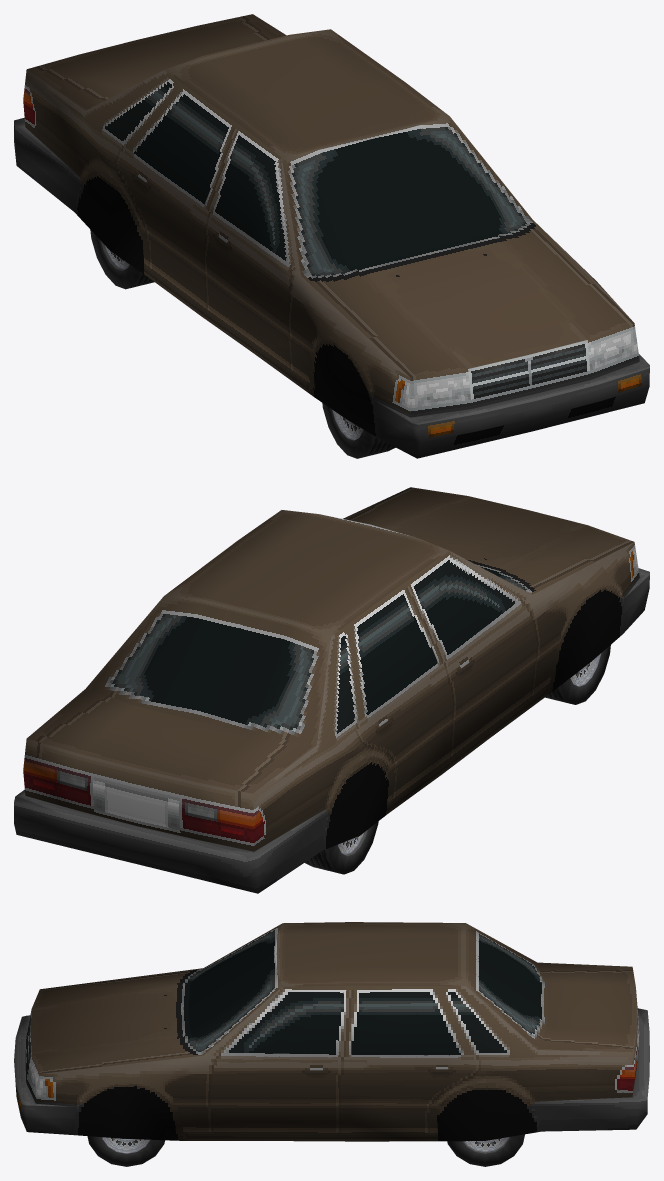
Rendered from Car7.glb.
3 views of the same model, one above another, from view 1: azimuth 30°, elevation 25°; view 2: azimuth 150°, elevation 25°; view 3: azimuth 270°, elevation 25° (orthographic). The views are drawn at different scales.
Visible parts, largest first — view 1: Body, Wheel_FR, Wheels_RR; view 2: Body, Wheels_RR, Wheel_FR; view 3: Body, Wheels_FL, Wheels_RL.
Part boxes in pixels (x1,y1,x2,y2): Body: (14, 14, 649, 458); Wheel_FR: (322, 403, 395, 458); Wheels_RR: (90, 230, 154, 289); Body: (14, 487, 649, 893); Wheels_RR: (304, 821, 378, 874); Wheel_FR: (545, 645, 610, 704); Body: (14, 922, 649, 1141); Wheels_FL: (87, 1136, 164, 1166); Wheels_RL: (447, 1134, 524, 1166).
Bounding box in the file's own units: 1.02 × 0.8487 × 2.85.
1 material, 1 textured.
